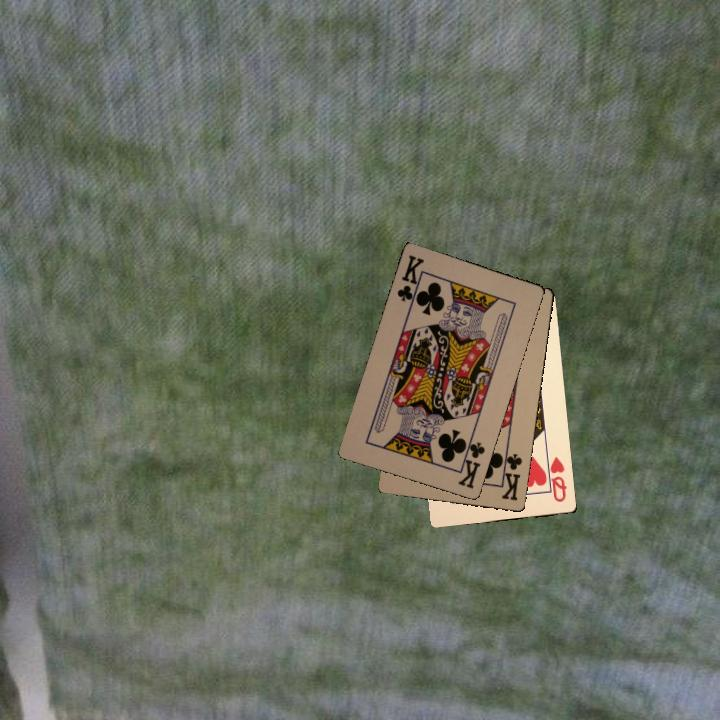Kc: (454, 433, 488, 491), (393, 251, 427, 308), (497, 446, 525, 503)
Qh: (542, 452, 569, 505)
